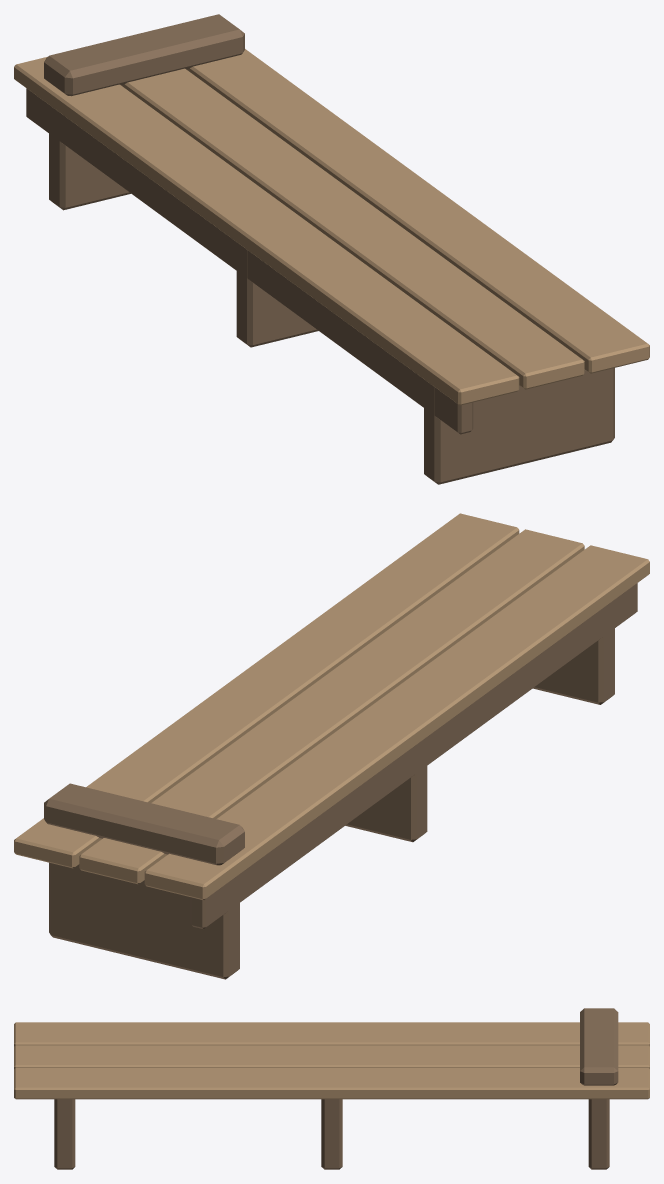
File: langbenk_sleeping_bench.glb
3 views of the same model, one above another, from view 1: azimuth 30°, elevation 25°; view 2: azimuth 150°, elevation 25°; view 3: azimuth 270°, elevation 25° (orthographic). The views are drawn at different scales.
Visible parts, largest first — view 1: langbenk_sleeping_bench; view 2: langbenk_sleeping_bench; view 3: langbenk_sleeping_bench.
Boxes of the visible parts, x1=… form: langbenk_sleeping_bench: x1=14, y1=14, x2=649, y2=484; langbenk_sleeping_bench: x1=14, y1=513, x2=649, y2=979; langbenk_sleeping_bench: x1=14, y1=1008, x2=649, y2=1169.
Bounding box in the file's own units: 0.7448 × 0.53 × 3.
